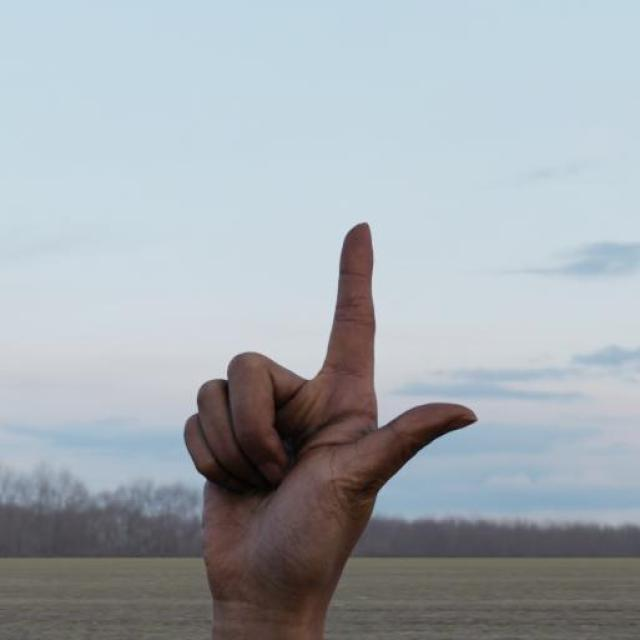L: (160, 179, 507, 602)
